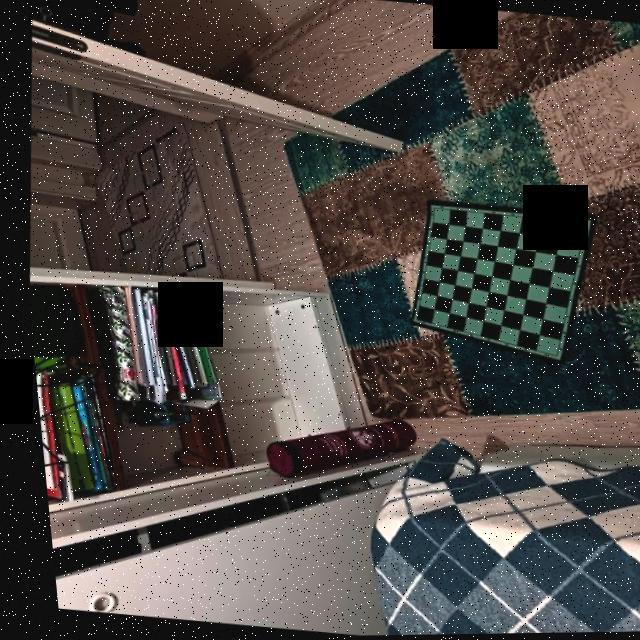chess-table-corners: (402, 313, 418, 326), (542, 352, 554, 360), (424, 204, 434, 212), (576, 221, 584, 227)
